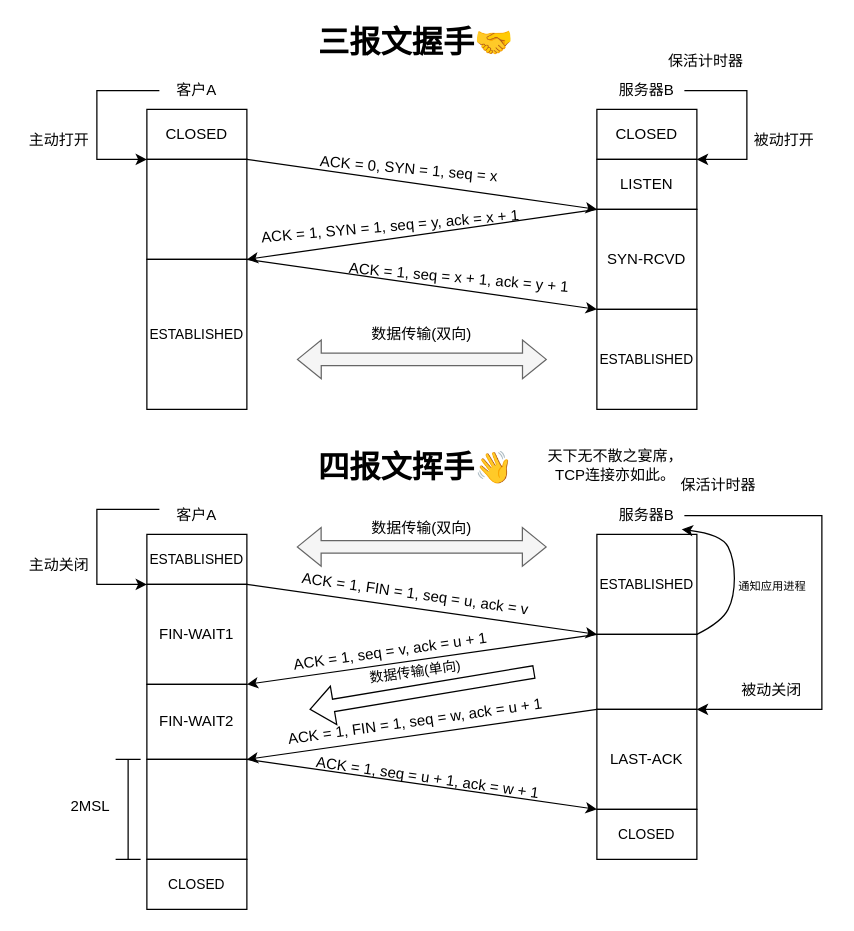
The diagram is 854 pixels wide and 931 high, and some of its shapes have lost their labels. The centre of each missing label's shape, as x and y in pixels:
"CLOSE-WAIT" goes at point 646,671.
"SYN-SENT" goes at point 196,208.
"TIME-WAIT" goes at point 196,808.
